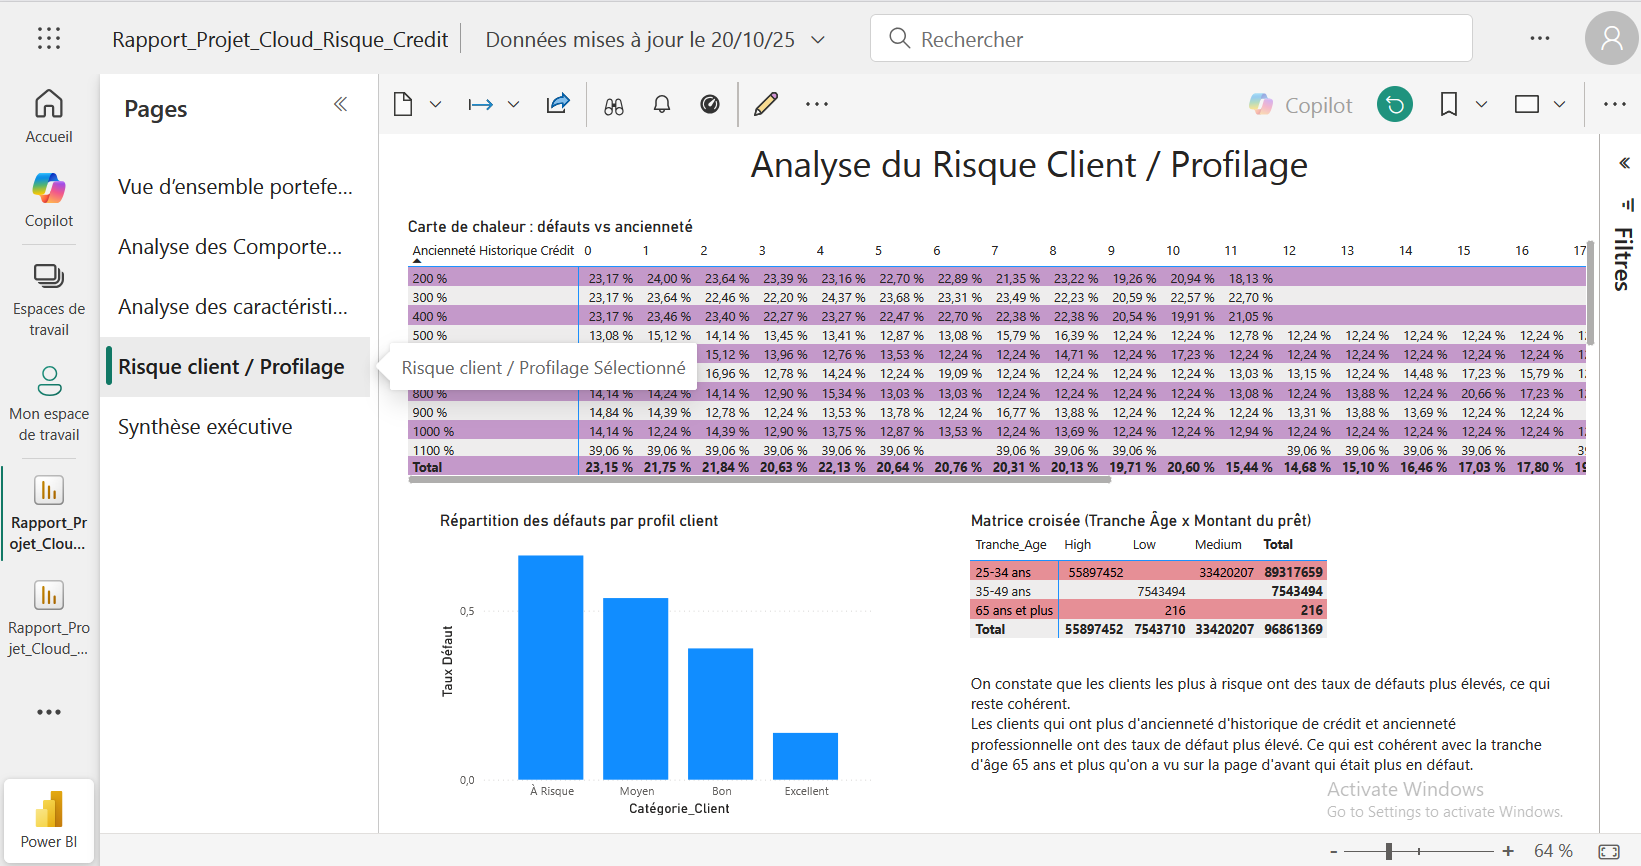

This screenshot's page, from the dashboard's own definition file:
{"tool":"powerbi","page":{"name":"Risque client / Profilage","canvas":[1280,720],"ordinal":3},"visuals":[{"type":"clusteredColumnChart","title":" Répartition des défauts par profil client","fields":{"Category":["Dataset_Risque_de_Credit_Clean_Test.Catégorie_Client"],"Y":["Dataset_Risque_de_Credit_Clean_Test.Taux Défaut"]},"box":[57.6,395.5,466.6,324.5],"z":0},{"type":"pivotTable","title":"Matrice croisée (Tranche Âge x Montant du prêt)","fields":{"Rows":["Dataset_Risque_de_Credit_Clean_Test.Tranche_Age"],"Columns":["Dataset_Risque_de_Credit_Clean_Test.Tranche_Montant_Pret"],"Values":["Sum(Dataset_Risque_de_Credit_Clean_Test.Score_Paiement)"]},"box":[614.4,395.5,451.2,163.2],"z":1000},{"type":"pivotTable","title":"Carte de chaleur : défauts vs ancienneté","fields":{"Rows":["Dataset_Risque_de_Credit_Clean_Test.Ancienneté Historique Crédit"],"Columns":["Dataset_Risque_de_Credit_Clean_Test.Ancienneté Professionnelle"],"Values":["Dataset_Risque_de_Credit_Clean_Test.Taux Défaut"]},"box":[24.6,86.9,1254.8,285.4],"z":2000},{"type":"textbox","box":[186.2,0,992.6,65.3],"z":3000},{"type":"textbox","box":[614.4,558.7,624,132.5],"z":4000}]}

Visuals, with their boxes on the page's 1280x720 design canvas (x1, y1, x2, y2). These are canvas units, not pixel positions in the 1641x866 screenshot, which may show the page scaled, cropped or inside an application window:
" Répartition des défauts par profil client" clusteredColumnChart: <region>58, 396, 524, 720</region>
"Matrice croisée (Tranche Âge x Montant du prêt)" pivotTable: <region>614, 396, 1066, 559</region>
"Carte de chaleur : défauts vs ancienneté" pivotTable: <region>25, 87, 1279, 372</region>
textbox: <region>186, 0, 1179, 65</region>
textbox: <region>614, 559, 1238, 691</region>
